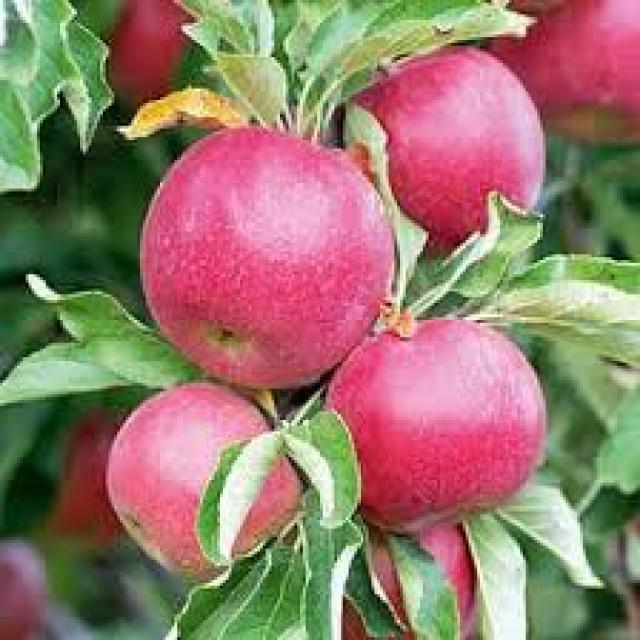Apple: (137, 122, 394, 388), (314, 318, 551, 534), (343, 42, 546, 258), (106, 382, 306, 584), (482, 0, 638, 146), (342, 520, 476, 640), (110, 0, 209, 106), (2, 534, 48, 640)
